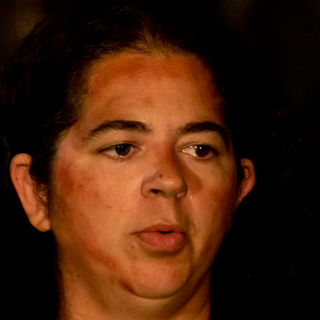eye: (86, 138, 146, 164), (171, 136, 222, 165)
